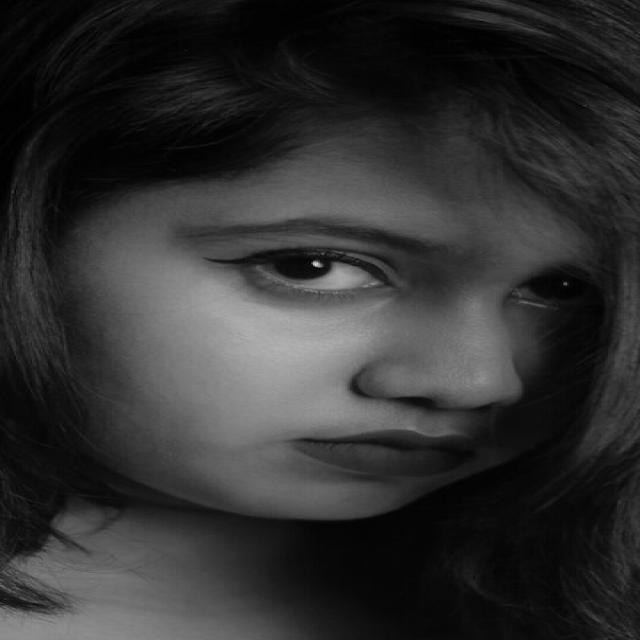front: (131, 212, 640, 541)
